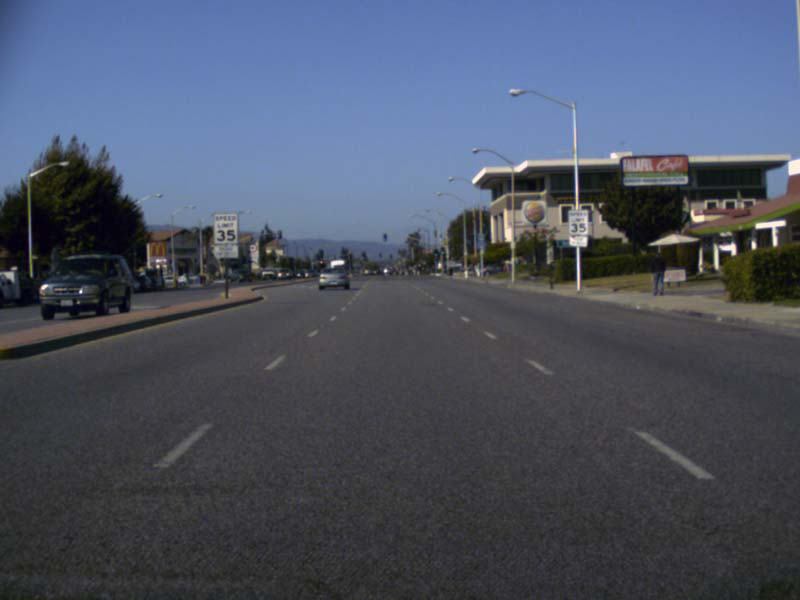Green: (382, 233, 387, 242), (433, 248, 437, 256), (440, 247, 444, 255)
Red: (319, 259, 323, 269), (348, 250, 351, 258)
